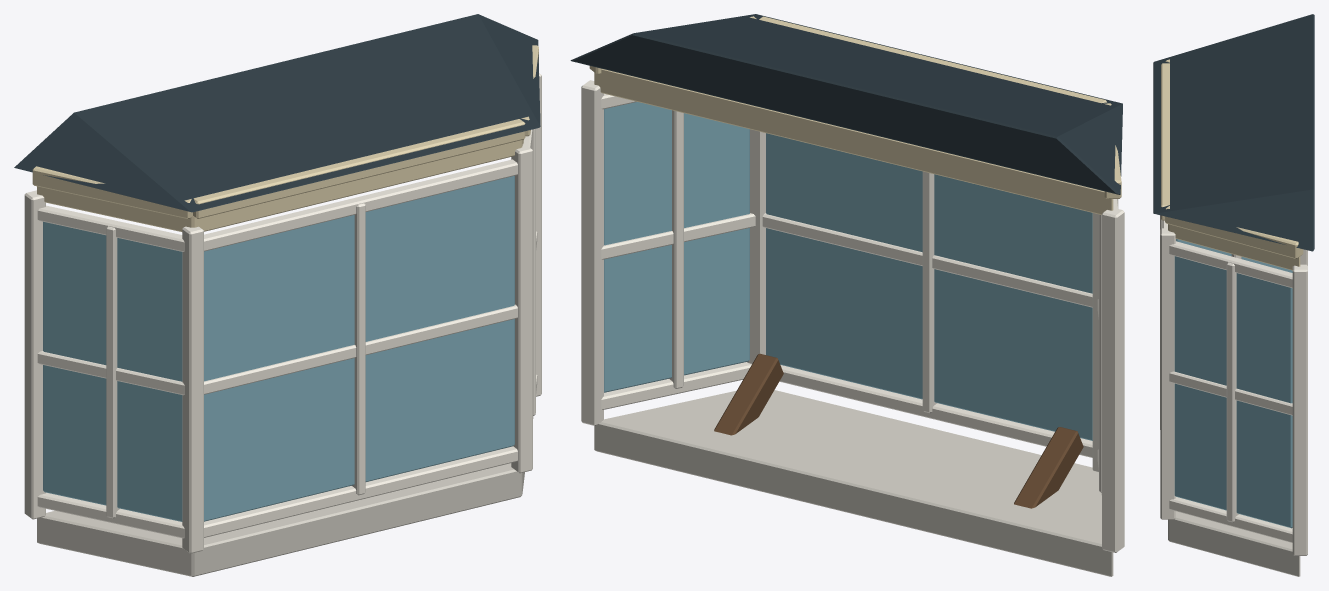
File: b12_projecting_bay_window.glb
3 views of the same model, side by side, from view 1: azimuth 30°, elevation 25°; view 2: azimuth 150°, elevation 25°; view 3: azimuth 270°, elevation 25° (orthographic). The views are drawn at different scales.
Visible parts, largest first — view 1: b12_projecting_bay_window; view 2: b12_projecting_bay_window; view 3: b12_projecting_bay_window.
Part boxes in pixels (bbox=[...]): b12_projecting_bay_window: bbox=[14, 14, 541, 576]; b12_projecting_bay_window: bbox=[570, 14, 1124, 576]; b12_projecting_bay_window: bbox=[1153, 14, 1314, 576].
Size of the model in its own units: 2.64 by 2.02 by 0.792.
